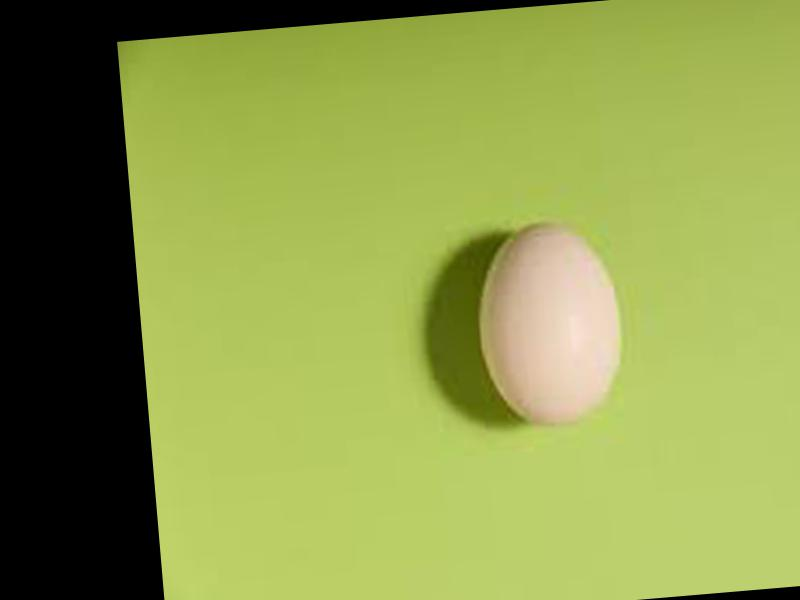Eggs: (470, 213, 624, 431)
